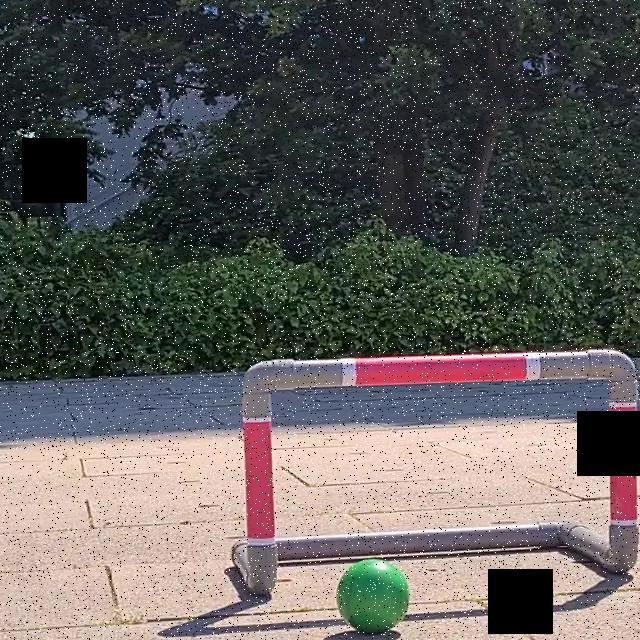ball: (335, 557, 411, 635)
